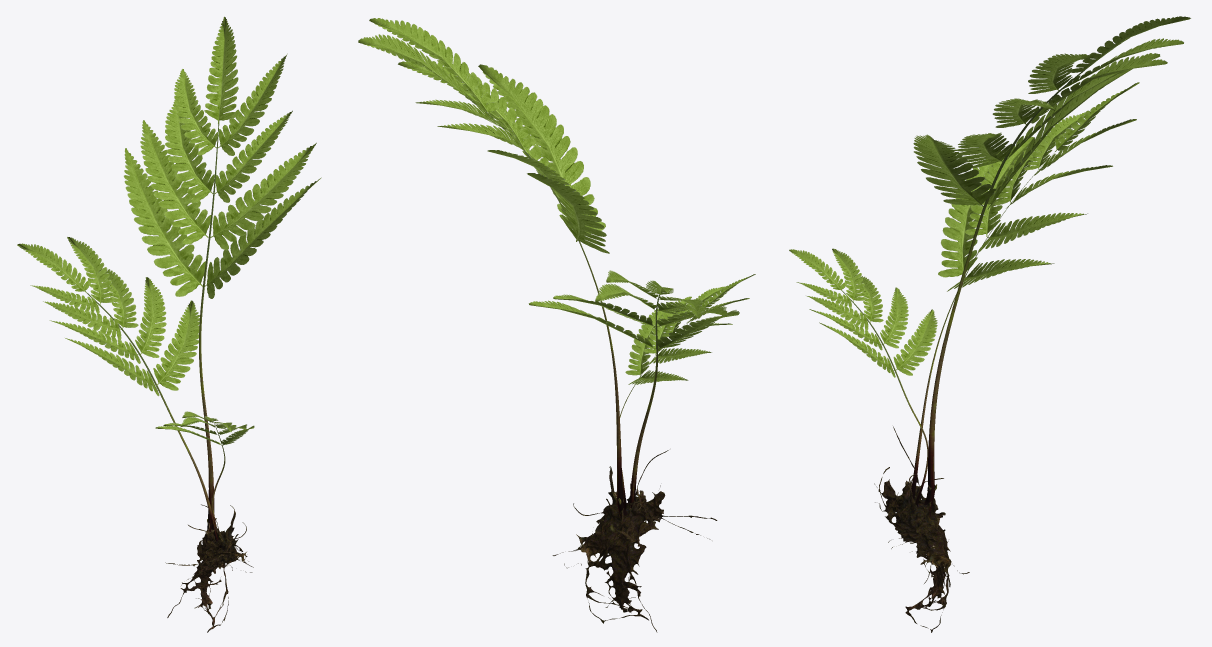
File: pteris-biaurita.fbx
3 views of the same model, side by side, from view 1: azimuth 30°, elevation 25°; view 2: azimuth 150°, elevation 25°; view 3: azimuth 270°, elevation 25° (orthographic). The views are drawn at different scales.
Parts seen in each view (by area): view 1: Object_7.001; view 2: Object_7.001; view 3: Object_7.001.
Boxes of the visible parts, left/top/right/bottom form: Object_7.001: left=17, top=16, right=321, bottom=632; Object_7.001: left=358, top=18, right=755, bottom=632; Object_7.001: left=789, top=16, right=1190, bottom=632.
Size of the model in its own units: 67.15 by 124 by 67.74.
3 materials, 3 textured.
